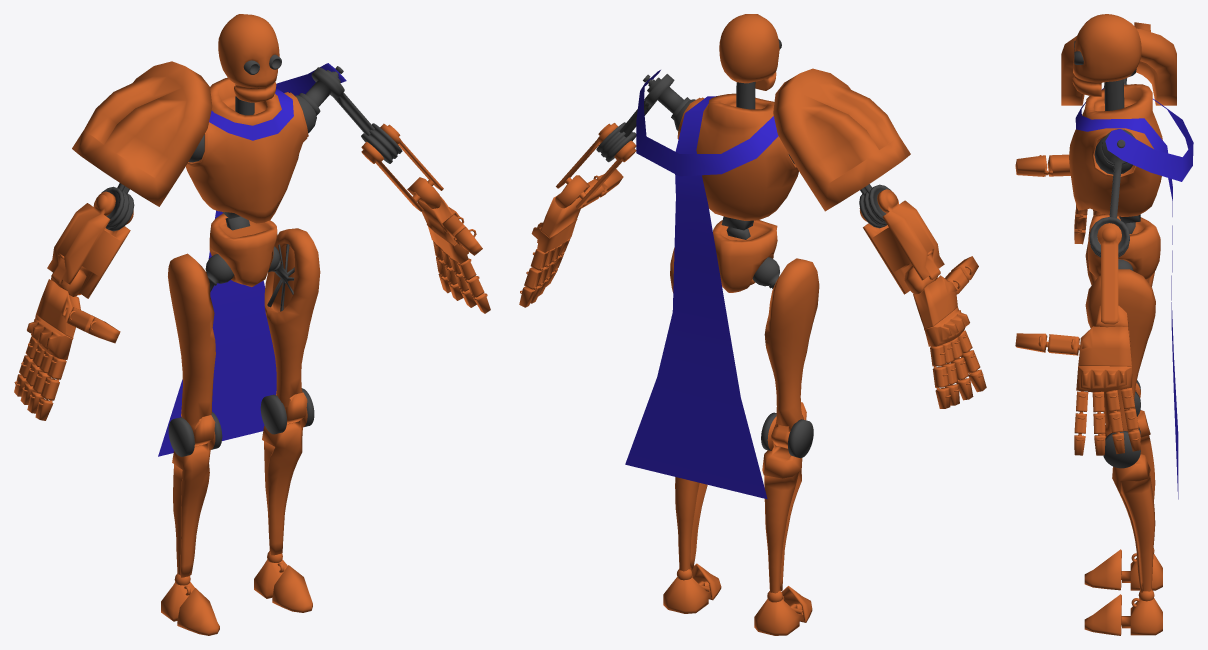
File: Ebo_low.fbx
The picture shows the model from 3 angles, left to right: view 1: azimuth 30°, elevation 25°; view 2: azimuth 150°, elevation 25°; view 3: azimuth 270°, elevation 25°; orthographic projection. The views are drawn at different scales.
Parts seen in each view (by area): view 1: leg._low, shoulderpiece_low, cape_low, chest_low, shin_low, forearm.r_low, fingers_low, head_low, shoulder_low, waist_low, toes_low, palm_low (+5 smaller); view 2: cape_low, shoulderpiece_low, chest_low, leg._low, shin_low, fingers_low, forearm.r_low, head_low, waist_low, shoulder_low, feet_low, palm_low (+5 smaller); view 3: chest_low, leg._low, cape_low, head_low, shin_low, fingers_low, shoulderpiece_low, thumbs_low, waist_low, toes_low, shoulder_low, palm_low (+5 smaller).
Boxes of the visible parts, x1=… form: leg._low: x1=168, y1=228, x2=320, y2=456; shoulderpiece_low: x1=72, y1=61, x2=212, y2=206; cape_low: x1=158, y1=63, x2=346, y2=456; chest_low: x1=186, y1=77, x2=308, y2=223; shin_low: x1=172, y1=392, x2=307, y2=585; forearm.r_low: x1=47, y1=191, x2=133, y2=298; fingers_low: x1=14, y1=241, x2=490, y2=420; head_low: x1=218, y1=14, x2=279, y2=102; shoulder_low: x1=101, y1=66, x2=402, y2=231; waist_low: x1=209, y1=213, x2=277, y2=286; toes_low: x1=177, y1=565, x2=312, y2=635; palm_low: x1=36, y1=196, x2=459, y2=338; cape_low: x1=625, y1=70, x2=778, y2=499; shoulderpiece_low: x1=773, y1=68, x2=910, y2=211; chest_low: x1=677, y1=93, x2=798, y2=220; leg._low: x1=670, y1=247, x2=819, y2=458; shin_low: x1=675, y1=402, x2=806, y2=602; fingers_low: x1=519, y1=238, x2=986, y2=408; forearm.r_low: x1=859, y1=189, x2=944, y2=294; head_low: x1=719, y1=14, x2=779, y2=90; waist_low: x1=713, y1=220, x2=777, y2=292; shoulder_low: x1=596, y1=74, x2=891, y2=228; feet_low: x1=663, y1=575, x2=802, y2=635; palm_low: x1=540, y1=196, x2=957, y2=329; chest_low: x1=1069, y1=84, x2=1162, y2=216; leg._low: x1=1085, y1=244, x2=1155, y2=468; cape_low: x1=1075, y1=88, x2=1193, y2=499; head_low: x1=1072, y1=14, x2=1141, y2=96; shin_low: x1=1101, y1=390, x2=1155, y2=601; fingers_low: x1=1074, y1=204, x2=1140, y2=455; shoulderpiece_low: x1=1061, y1=22, x2=1176, y2=105; thumbs_low: x1=1015, y1=154, x2=1080, y2=355; waist_low: x1=1088, y1=214, x2=1160, y2=279; toes_low: x1=1084, y1=549, x2=1121, y2=635; shoulder_low: x1=1089, y1=68, x2=1136, y2=257; palm_low: x1=1078, y1=326, x2=1131, y2=366.
Bounding box in the file's own units: 280 × 97.27 × 355.
